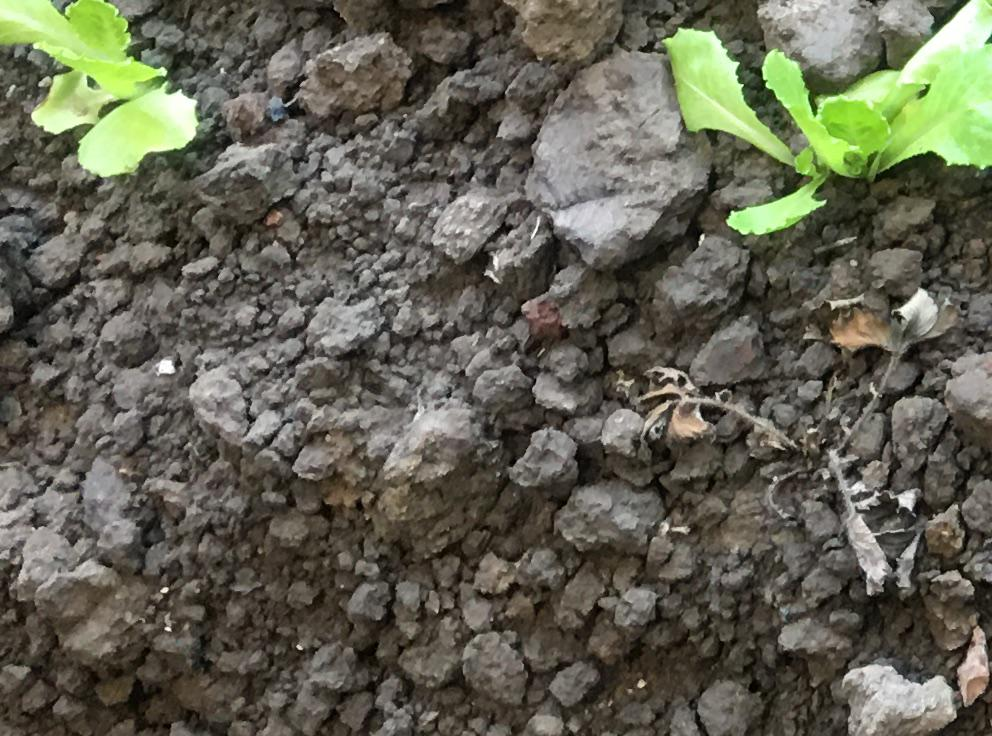block: (529, 48, 714, 270), (373, 404, 492, 547), (30, 556, 144, 665)
